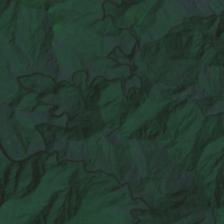landslides: (47, 131, 59, 147), (213, 15, 222, 36), (106, 132, 119, 146), (41, 55, 53, 70), (69, 108, 82, 120), (72, 110, 87, 119), (48, 63, 59, 75), (127, 60, 138, 70), (48, 55, 56, 68)
